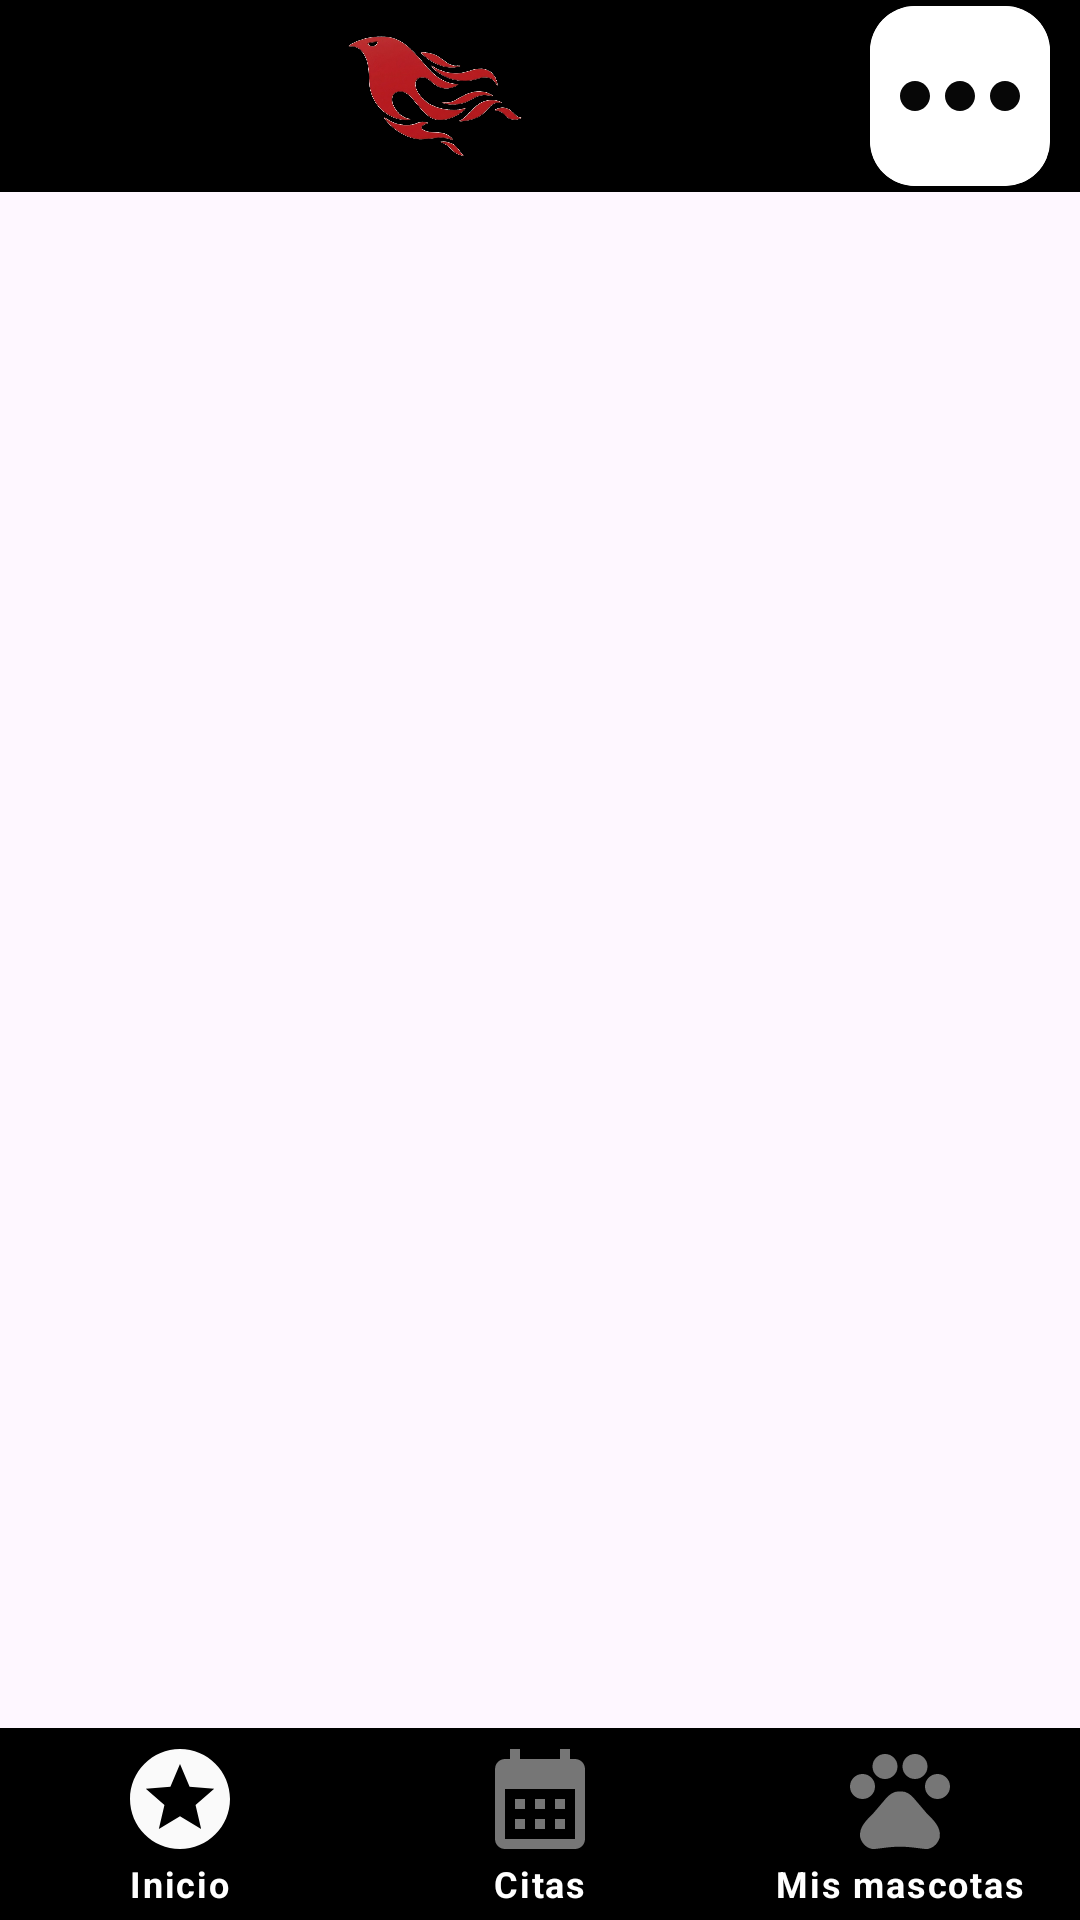

Screen size 1080x1920. Icon name, then its box in pixels as [x1=x1, y1=y1, x2=x2, y2=y2]:
calendar month: [x1=495, y1=1749, x2=585, y2=1849]
more horiz: [x1=870, y1=6, x2=1050, y2=186]
pets: [x1=850, y1=1754, x2=950, y2=1849]
stars: [x1=130, y1=1749, x2=230, y2=1849]
